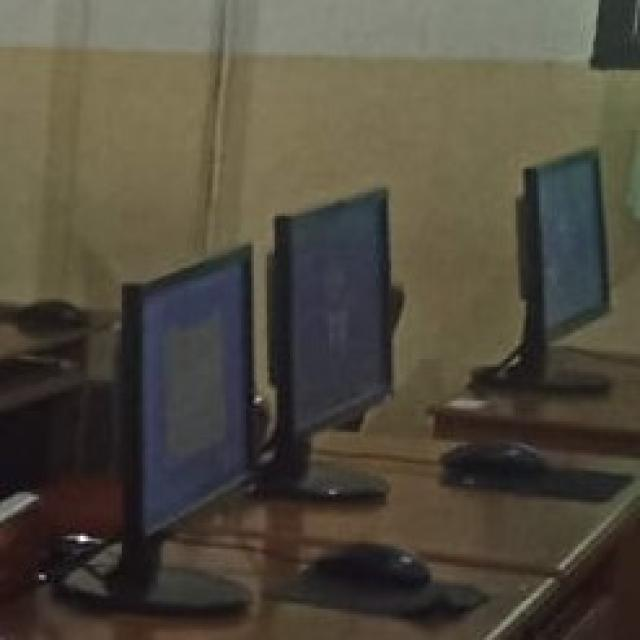onscreen: (124, 260, 247, 535), (275, 191, 390, 432), (536, 153, 606, 336)
